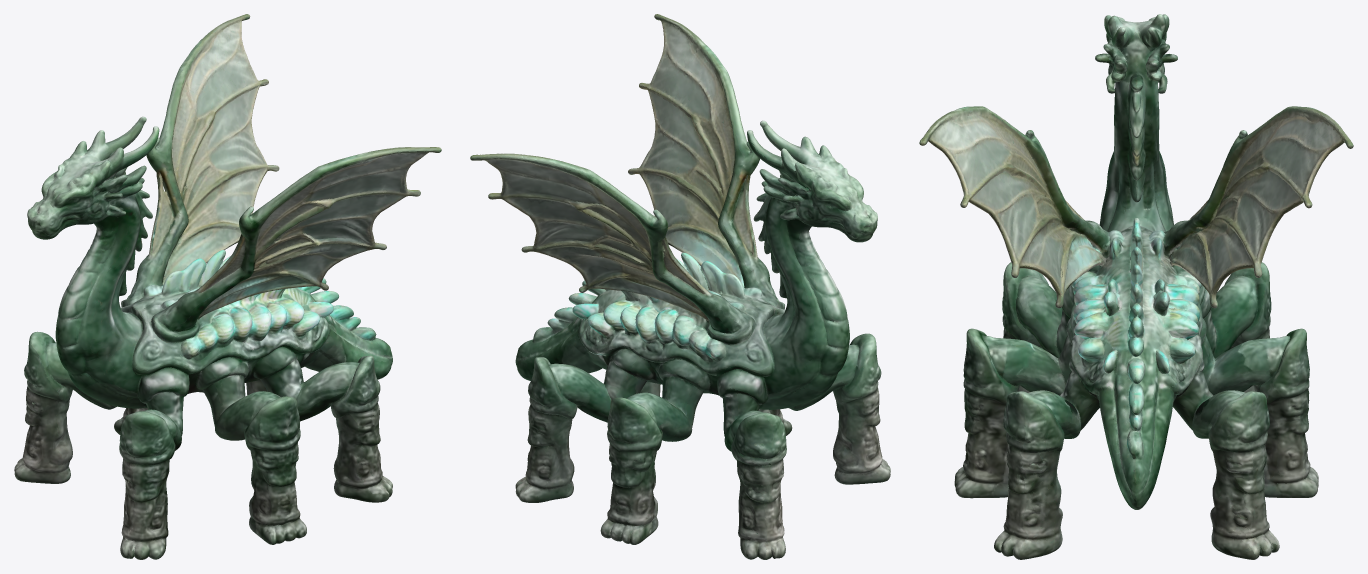
Rendered from habitat-8341646.glb.
The picture shows the model from 3 angles, left to right: view 1: azimuth 30°, elevation 25°; view 2: azimuth 150°, elevation 25°; view 3: azimuth 270°, elevation 25°; orthographic projection. The views are drawn at different scales.
Visible parts, largest first — view 1: geometry_0; view 2: geometry_0; view 3: geometry_0.
Boxes of the visible parts, x1,y1,x2,y2 form: geometry_0: (14,14,441,559); geometry_0: (470,14,890,559); geometry_0: (919,14,1353,559).
Bounding box in the file's own units: 0.5193 × 0.52 × 0.4764.
Materials: 1 (1 with a texture image).
